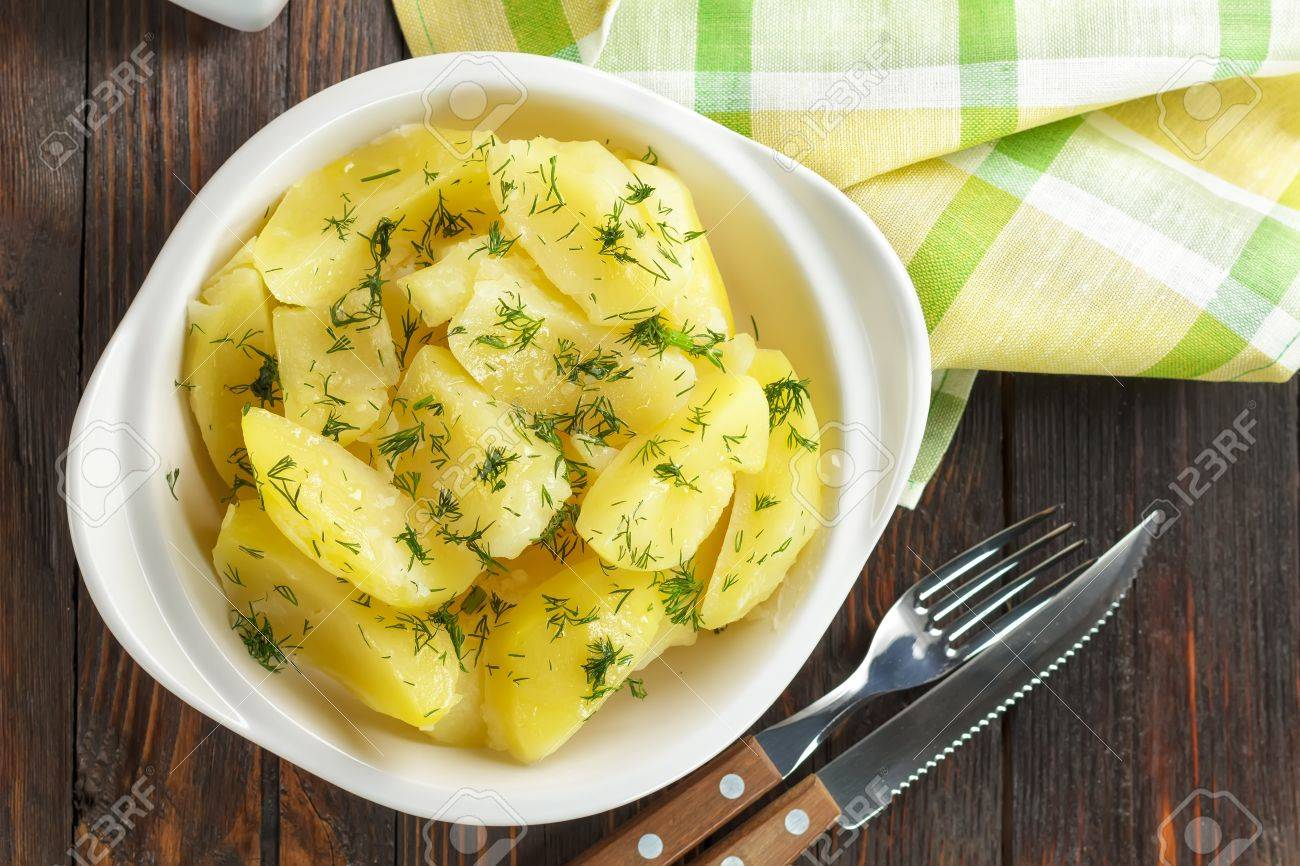boiled potatoes: (237, 126, 717, 656)
